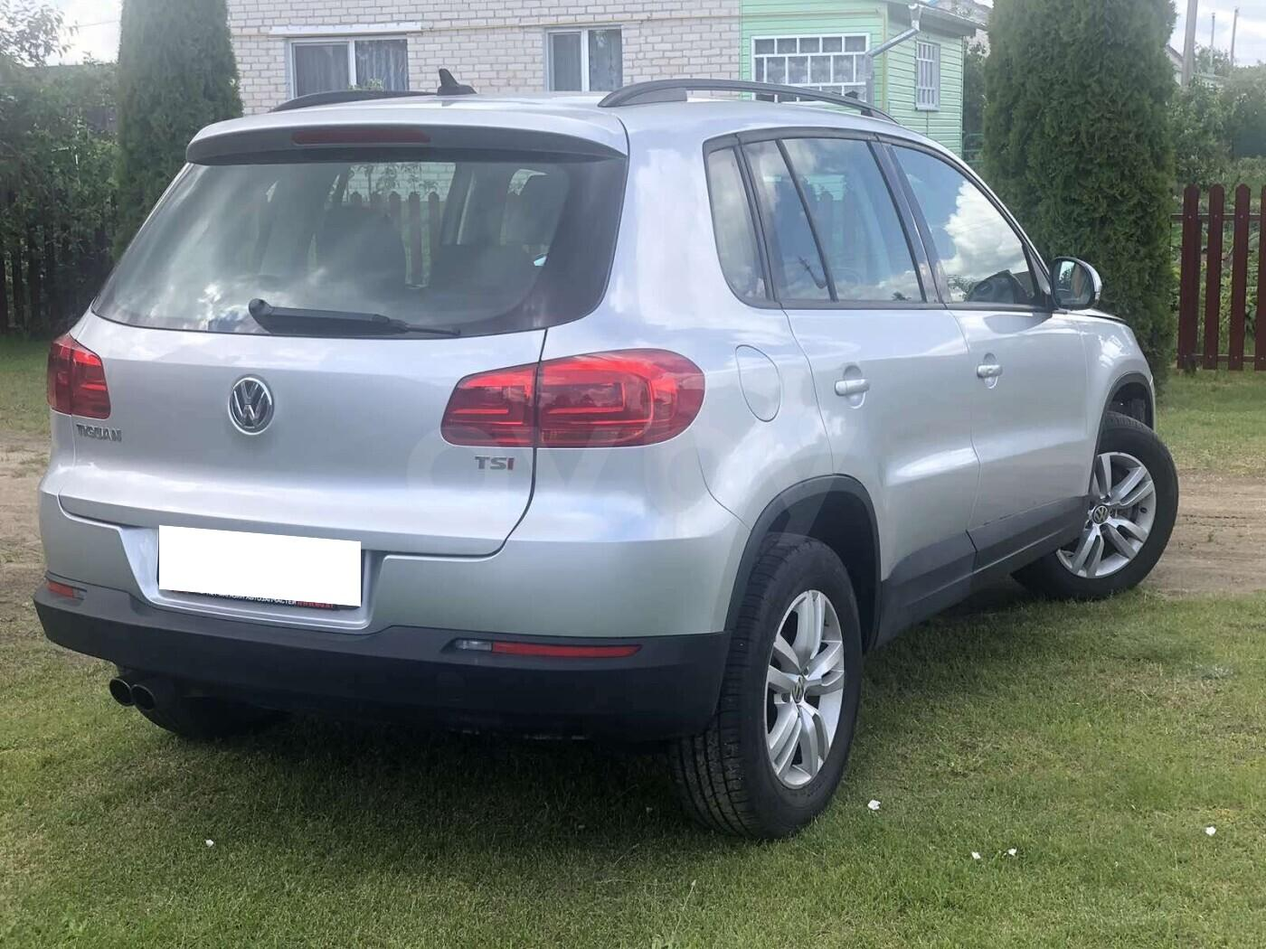Tiguan_2011-2018: (27, 88, 1182, 837)
